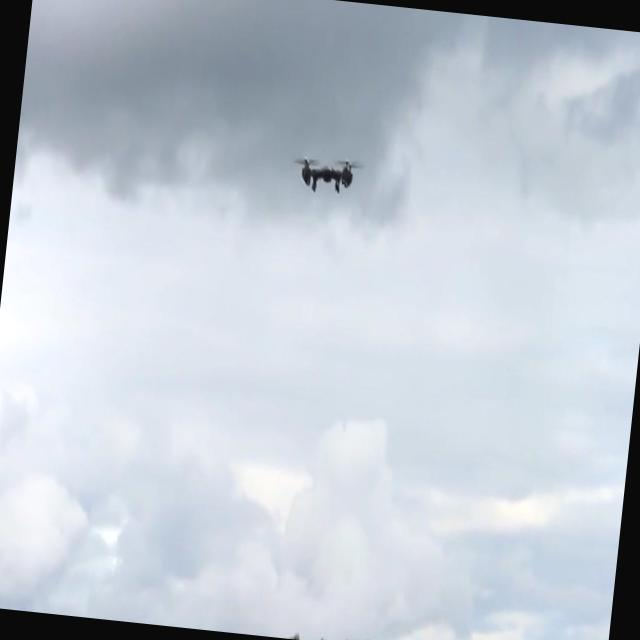drone: (290, 153, 362, 199)
